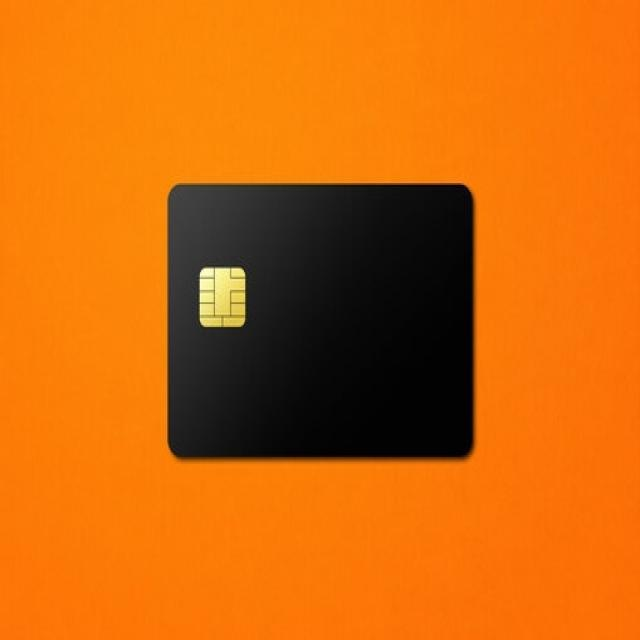payment_card: (166, 181, 474, 459)
